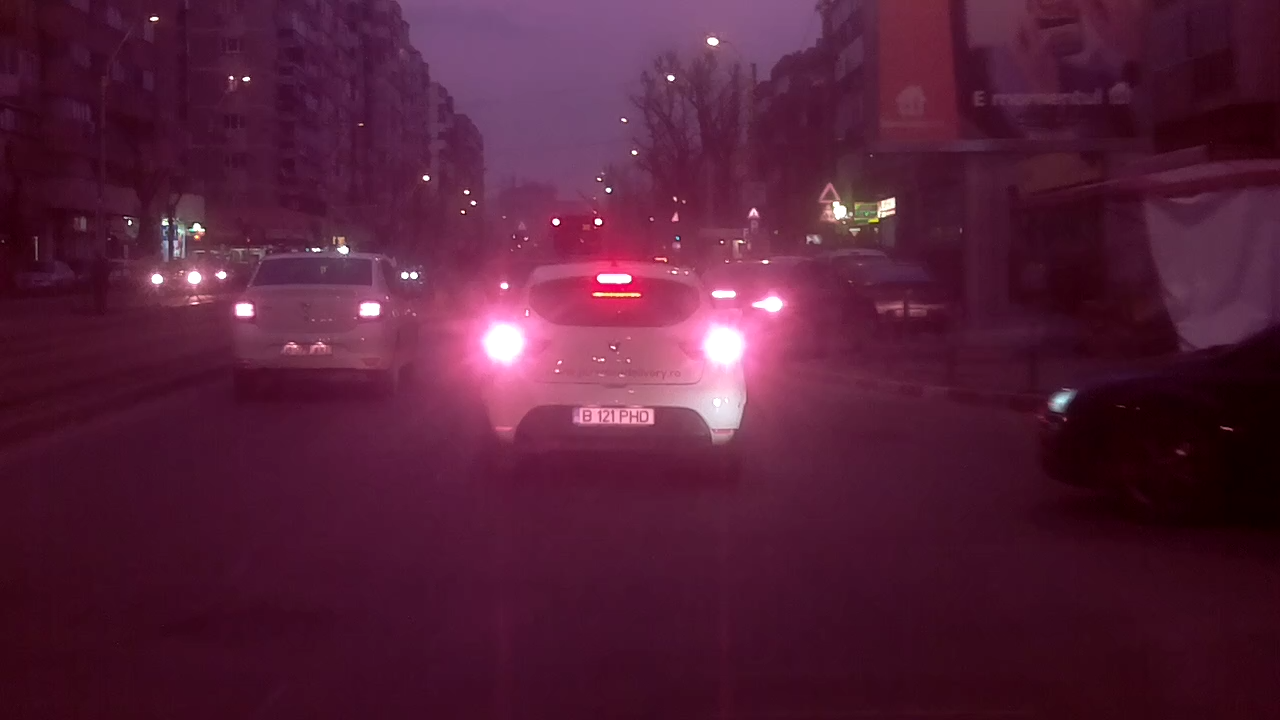license-plate: (567, 403, 658, 428)
